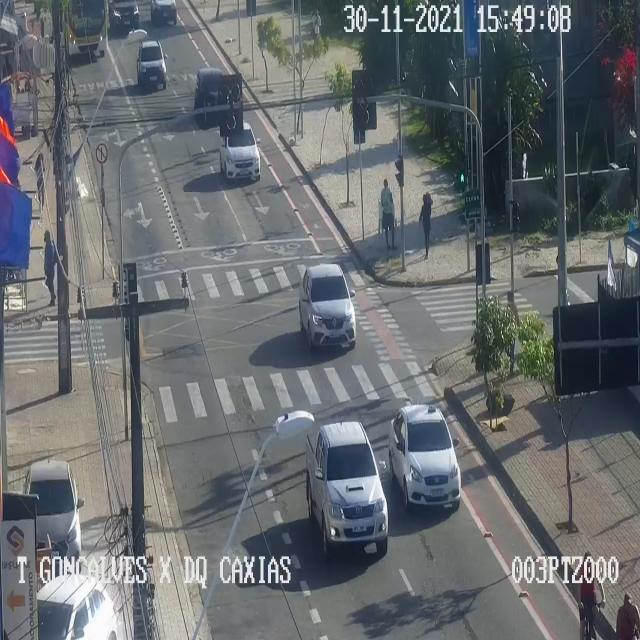Bus: (65, 0, 106, 63)
Car: (306, 421, 388, 552), (388, 404, 461, 506), (24, 461, 80, 570), (36, 574, 116, 639), (299, 263, 355, 346), (219, 122, 259, 178), (194, 68, 226, 118), (136, 40, 166, 88), (108, 0, 142, 37), (153, 0, 179, 25)
